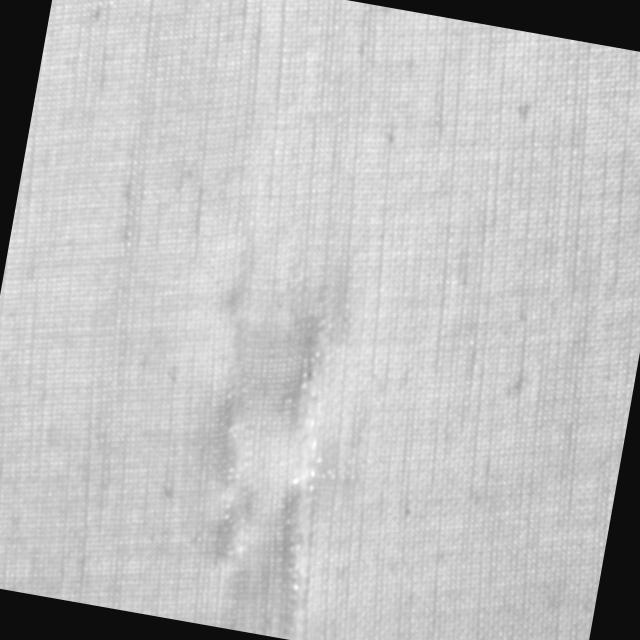thread error: (247, 272, 369, 640), (184, 259, 299, 571)
